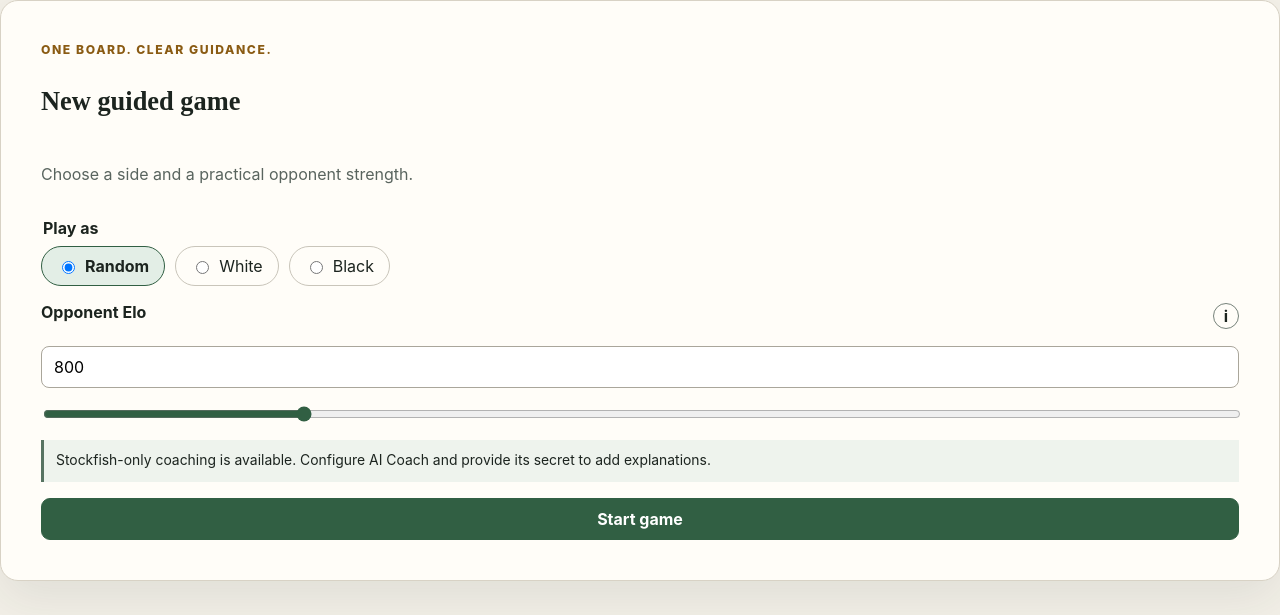
Test: keeps Elo controls synchronized and explains the hybrid range
Replace the text in the number field labelled "Opponent Elo" with "1320". click: (640, 367)
box: 41,346 -> 1239,388
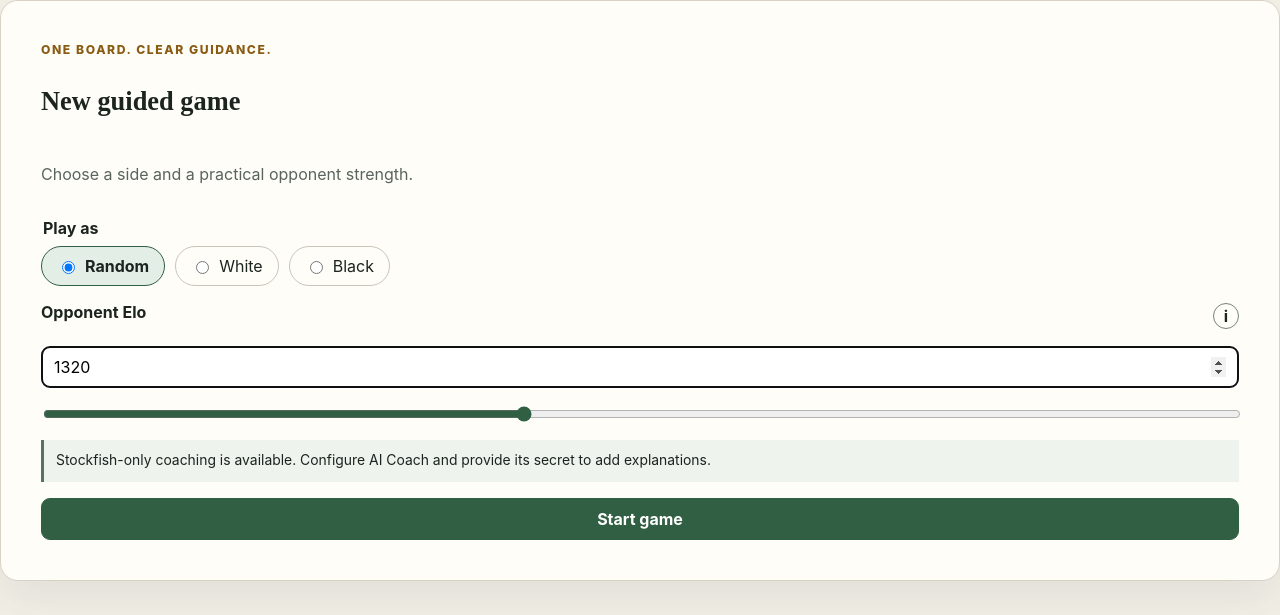
Check: the slider named "Opponent Elo slider" holds "1320", box 43,406 -> 1241,422
Click the heading named "About opponent Elo". click: (1226, 316)
box: 1213,303 -> 1239,329
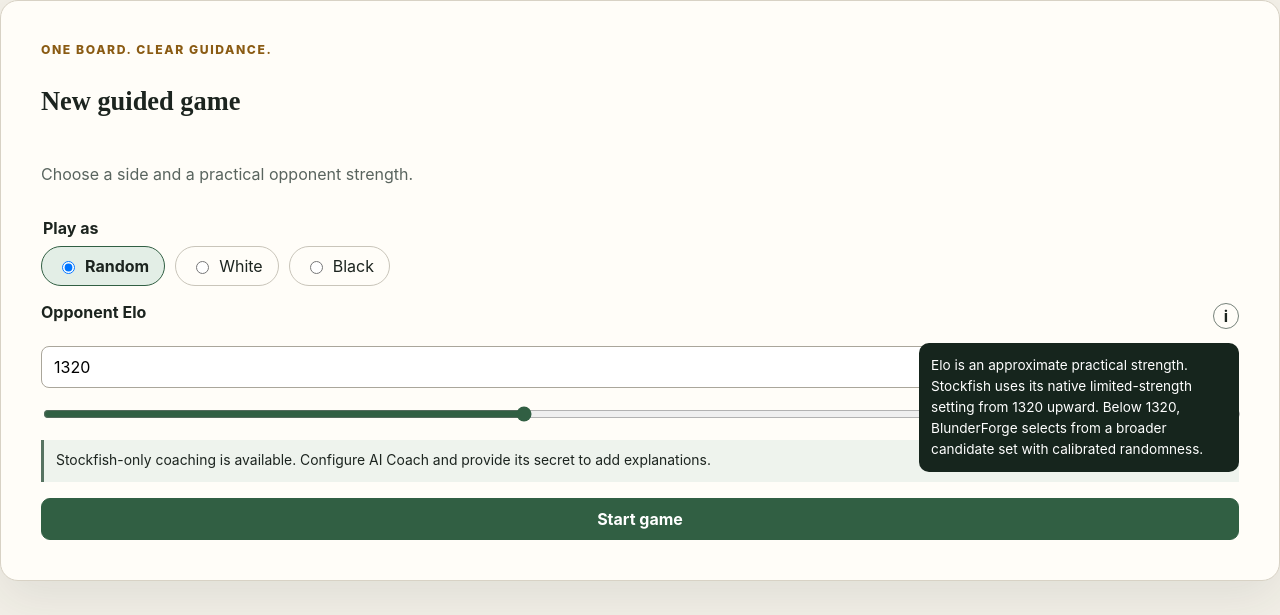
Check: the text "native limited-strength setting from 1320" is shown, box 931,357 -> 1203,457
